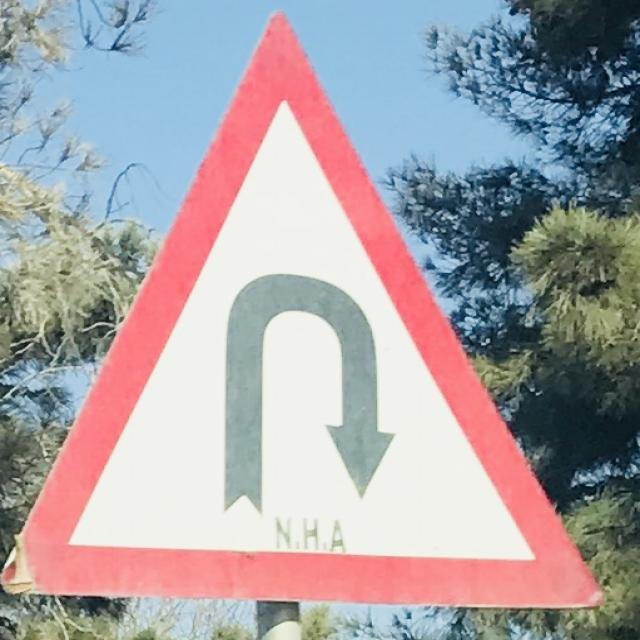u turn: (26, 33, 562, 596)
